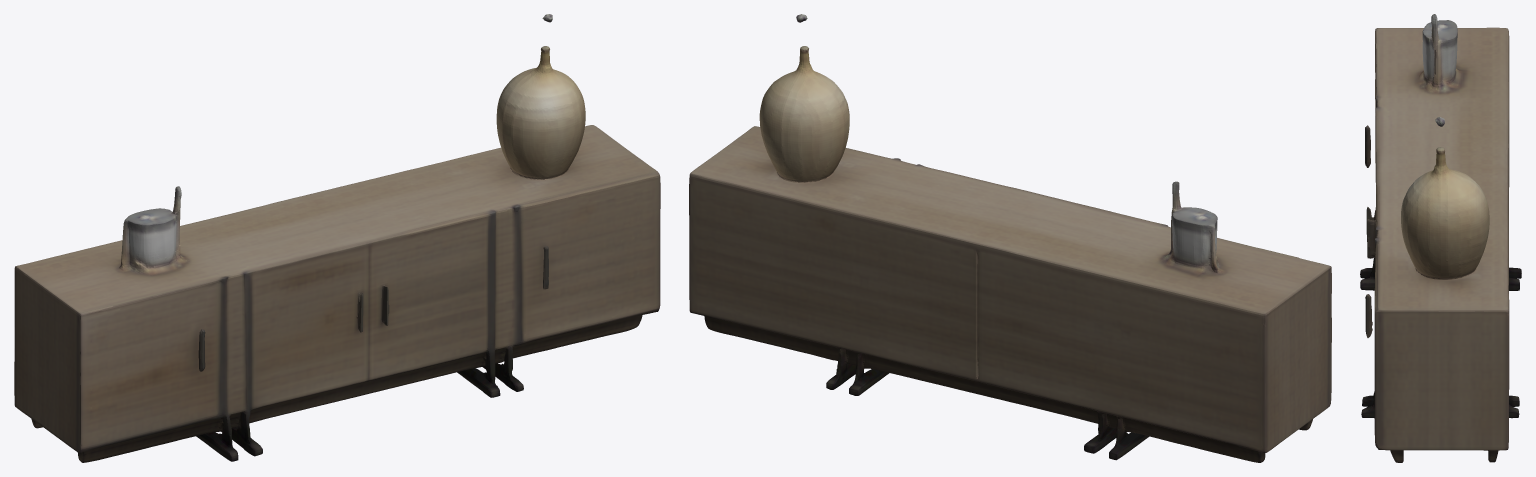
The model's file is sam3d.glb.
The picture shows the model from 3 angles, left to right: view 1: azimuth 30°, elevation 25°; view 2: azimuth 150°, elevation 25°; view 3: azimuth 270°, elevation 25°; orthographic projection.
Parts seen in each view (by area): view 1: world; view 2: world; view 3: world.
Part boxes in pixels (x1,y1,x2,y2): world: (14, 14, 660, 462); world: (689, 14, 1331, 462); world: (1360, 14, 1521, 462).
Bounding box in the file's own units: 1 × 0.5484 × 0.2417.
